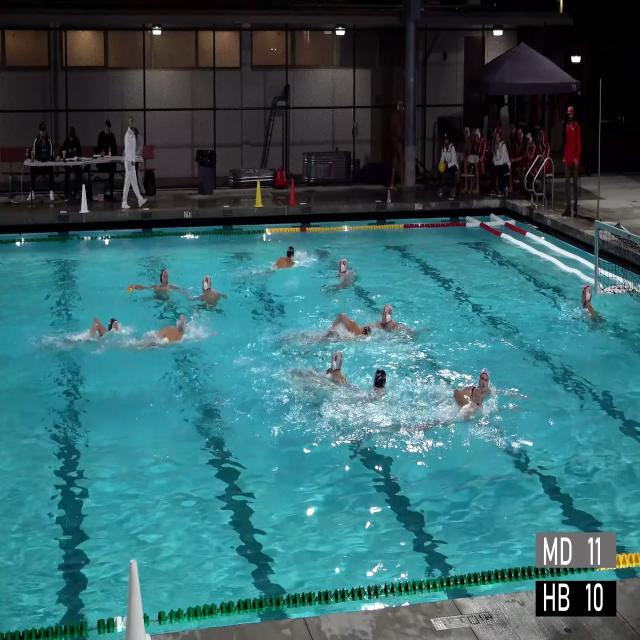ball: (438, 162, 444, 172), (127, 288, 133, 292)
